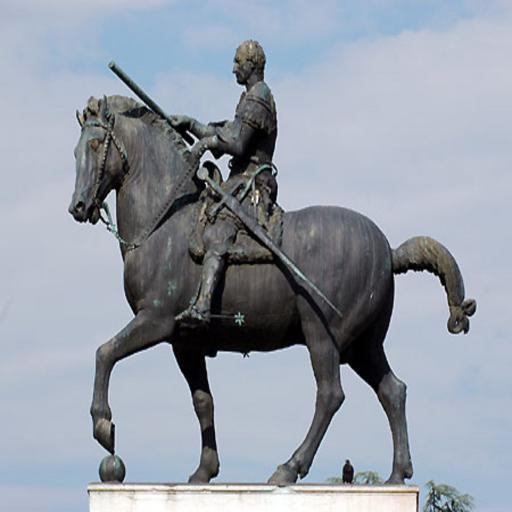horse: (67, 94, 478, 488)
